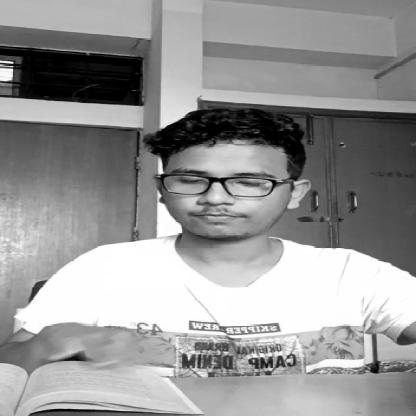Normal: (143, 150, 306, 247)
